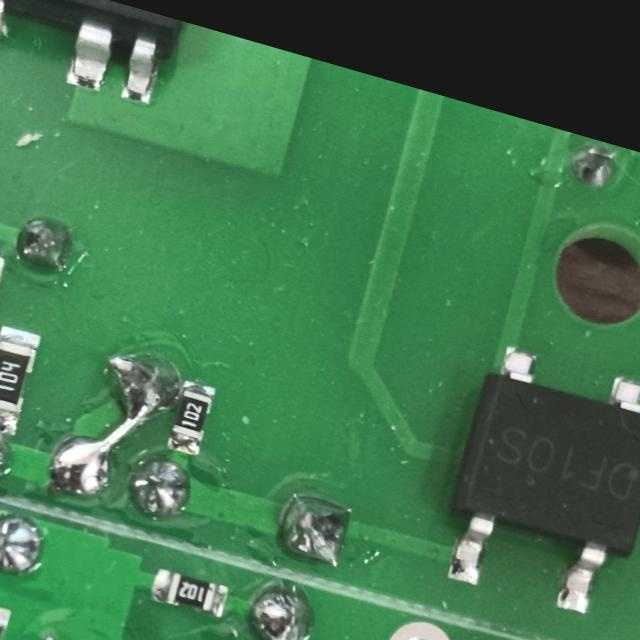chip-resistor: (145, 562, 234, 622), (0, 319, 44, 435), (164, 375, 220, 456)
ic: (425, 331, 640, 625), (0, 0, 184, 113)
